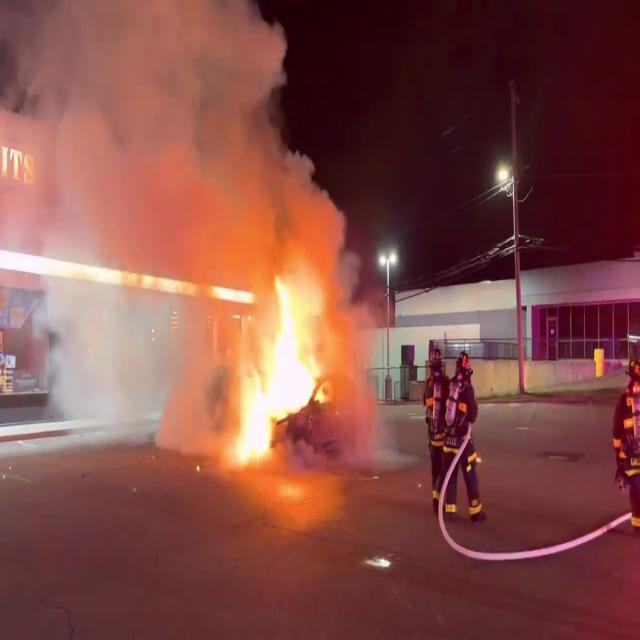Fire: (217, 266, 336, 466)
Smoke: (0, 0, 346, 264)
